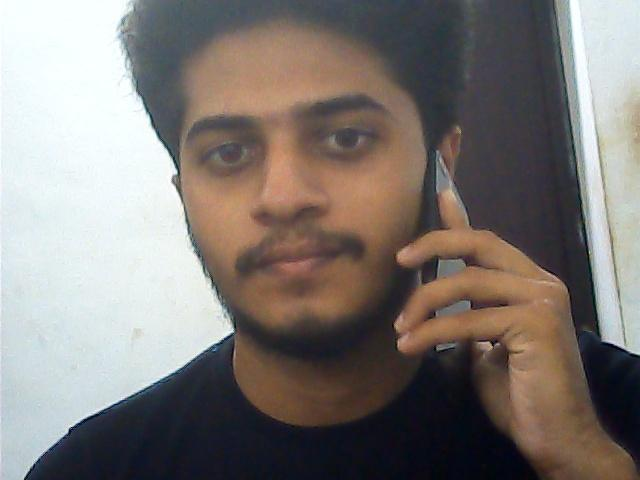PhoneUse: (407, 143, 478, 363)
SafeDriving: (302, 107, 391, 164), (190, 122, 274, 180)
